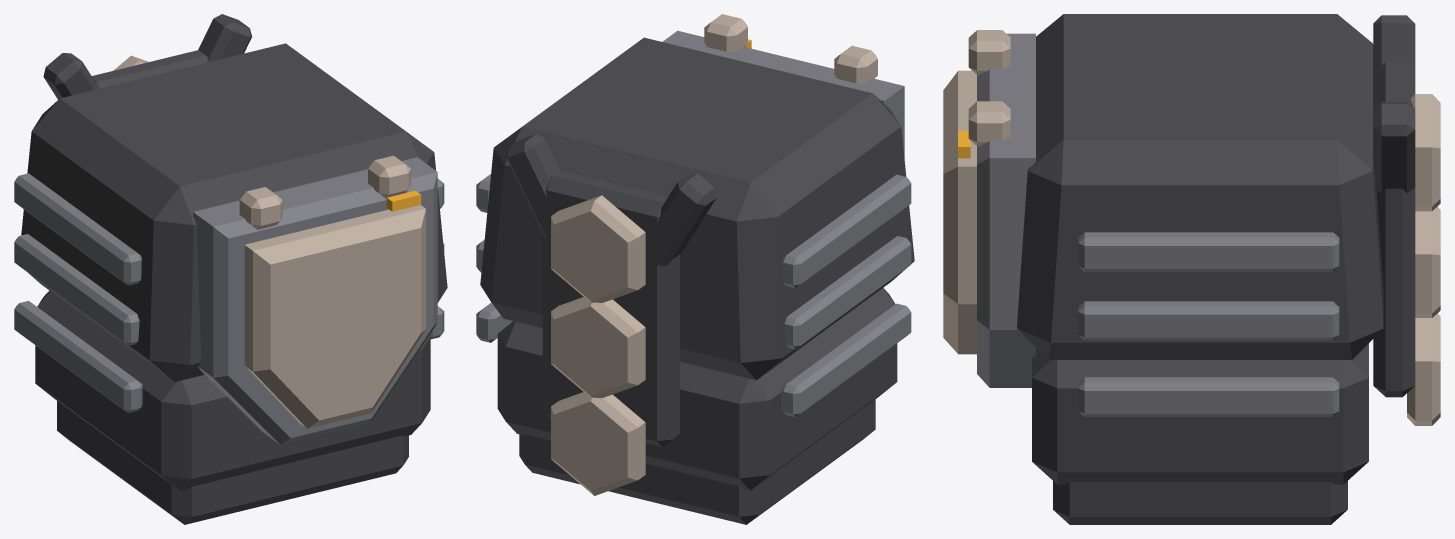
File: torso_heavy.glb
The picture shows the model from 3 angles, left to right: view 1: azimuth 30°, elevation 25°; view 2: azimuth 150°, elevation 25°; view 3: azimuth 270°, elevation 25°; orthographic projection. The views are drawn at different scales.
Visible parts, largest first — view 1: torso_heavy; view 2: torso_heavy; view 3: torso_heavy.
Part boxes in pixels (x1,y1,x2,y2): torso_heavy: (14,14,447,524); torso_heavy: (476,14,914,524); torso_heavy: (943,14,1440,524).
Bounding box in the file's own units: 1 × 1.06 × 1.18.
